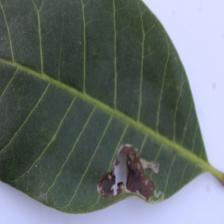leaf miner: (0, 0, 223, 214), (96, 142, 160, 202)
